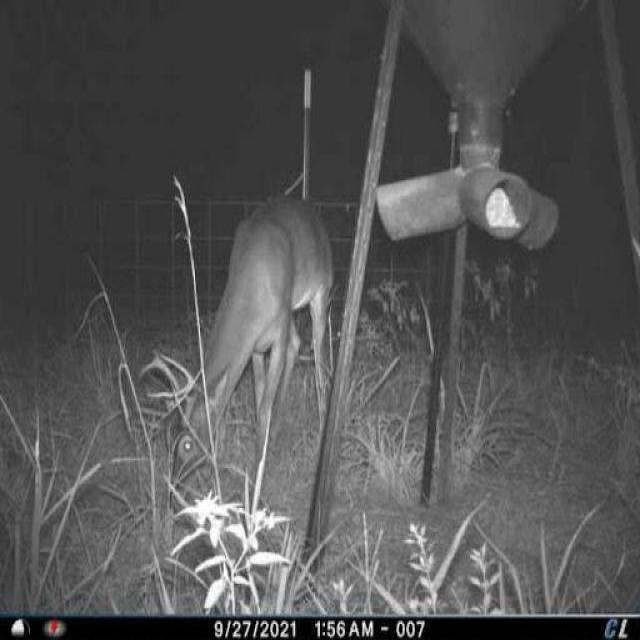deer: (136, 172, 340, 504)
